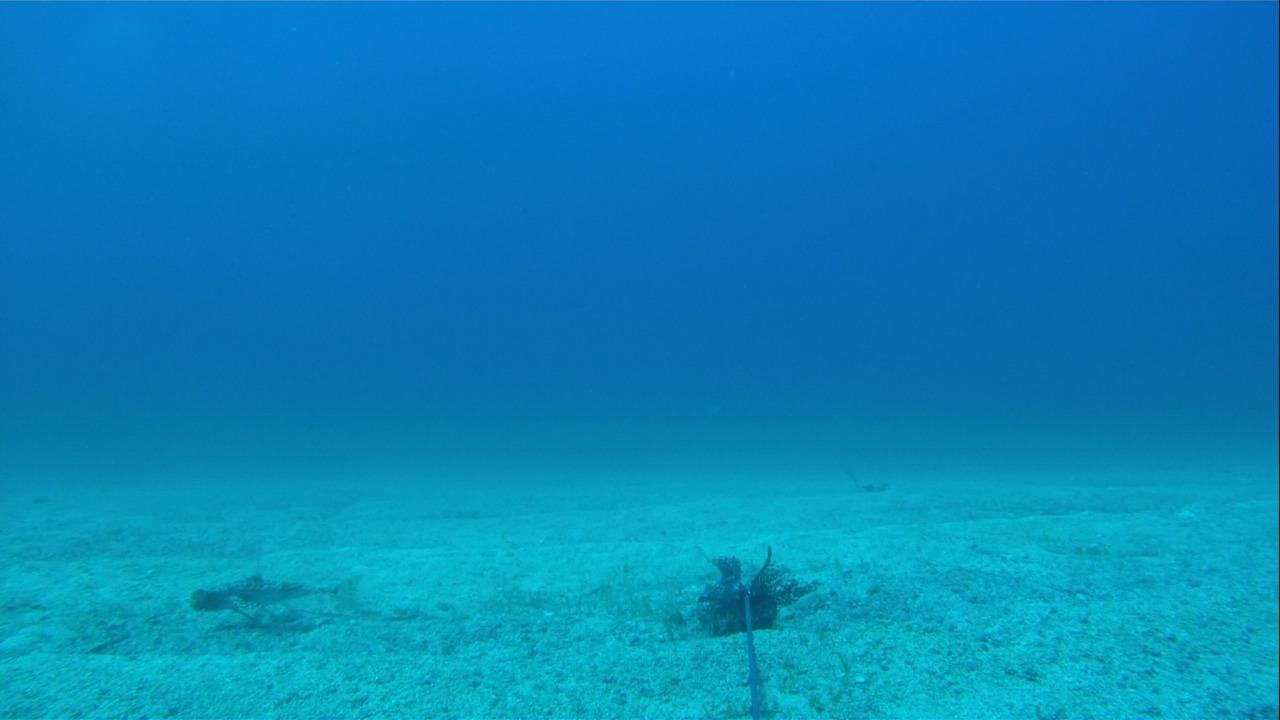dactylopterus: (186, 568, 372, 629)
